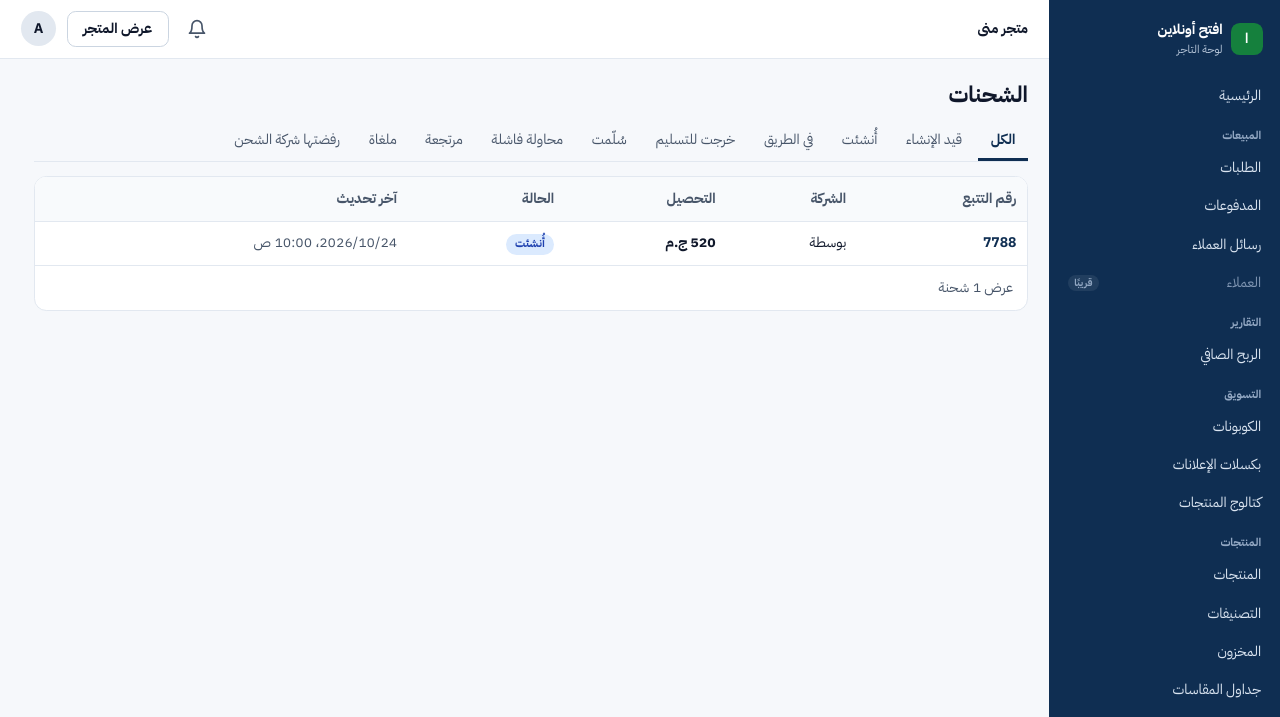
Scenario: Shipments › lists shipments and filters by status through the URL
Expected: the text "بوسطة" is shown, [726,221,857,265]
Click the tab "سُلّمت" at (609, 142), box [579,123,639,161]
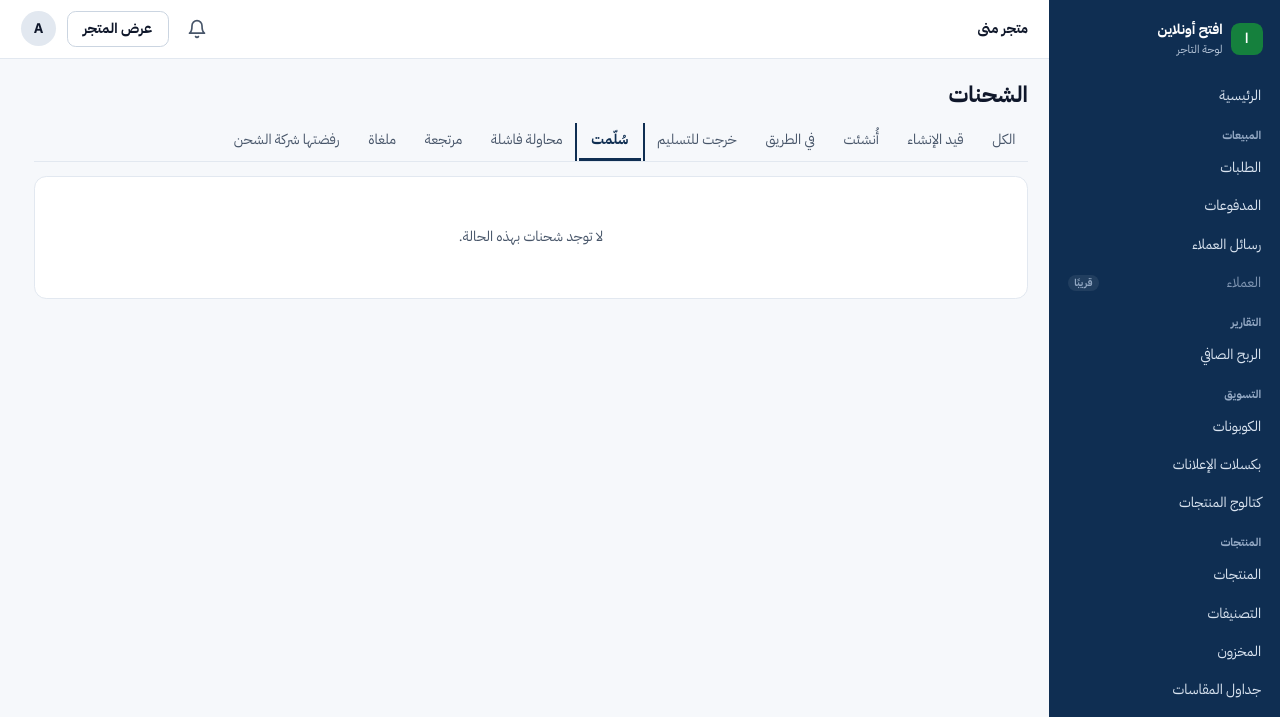
Now the text "لا توجد شحنات بهذه الحالة." is shown, box [35,191,1027,284]
